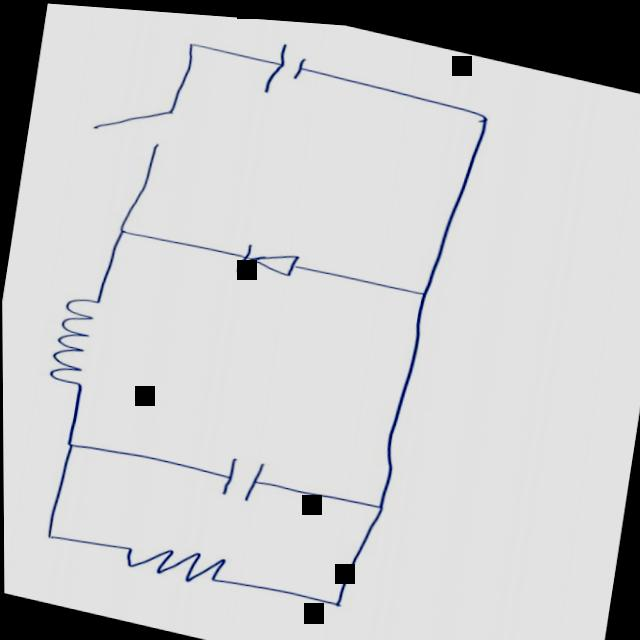capacitor: (86, 515, 254, 599), (187, 438, 295, 513)
diode: (182, 208, 349, 310)
inductor: (33, 276, 124, 414)
source: (247, 24, 329, 114)
switch: (67, 66, 206, 177)
